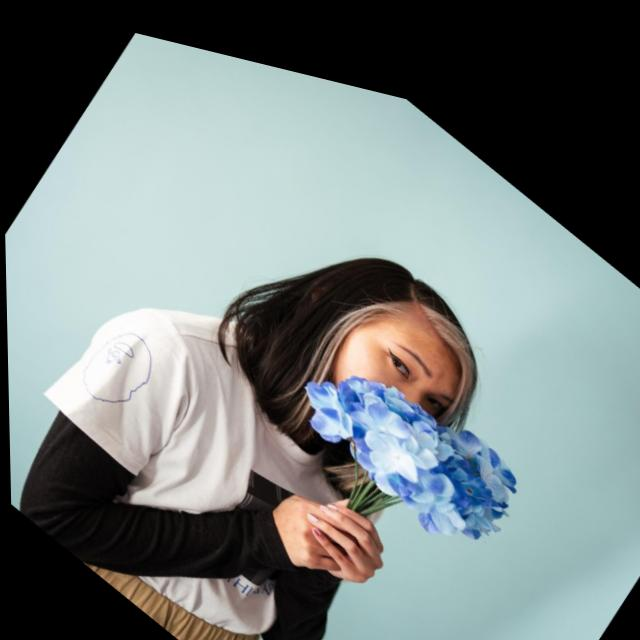Flower: (365, 362, 460, 463), (349, 392, 433, 479), (398, 438, 475, 527), (346, 367, 421, 448), (462, 408, 535, 482), (450, 420, 521, 496), (299, 370, 361, 441), (453, 464, 509, 527)
